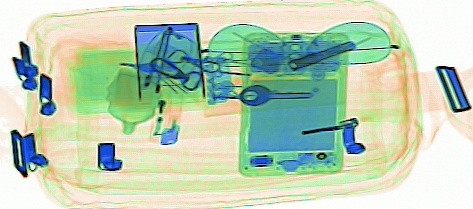lighter: (147, 67, 186, 145)
